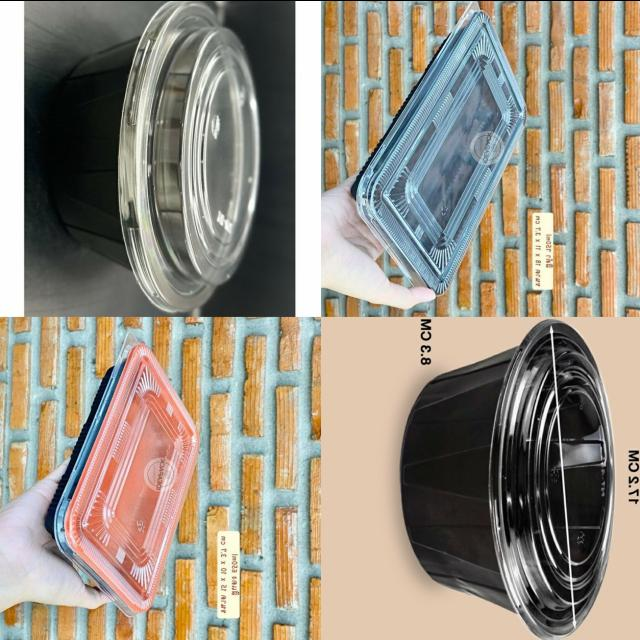plastik: (401, 318, 614, 639), (49, 0, 260, 311), (353, 1, 525, 293), (46, 333, 199, 614)
